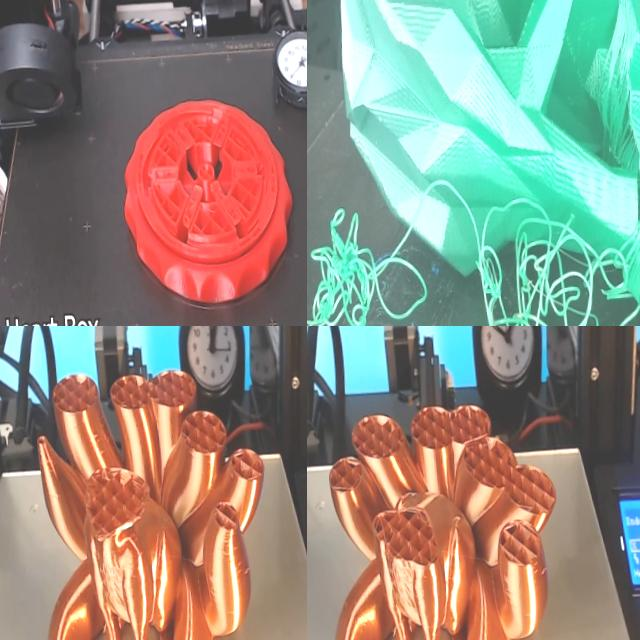spaghetti: (474, 201, 634, 326), (307, 209, 427, 326)
